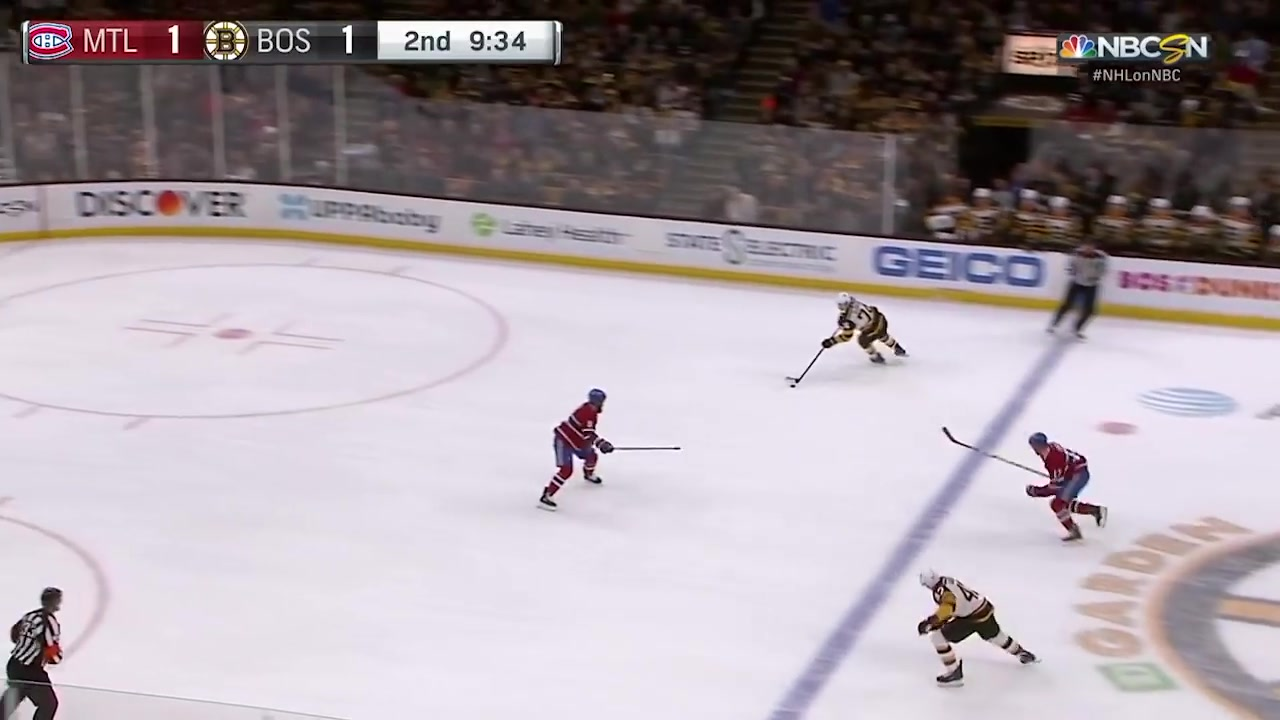geico: (869, 238, 1060, 307)
